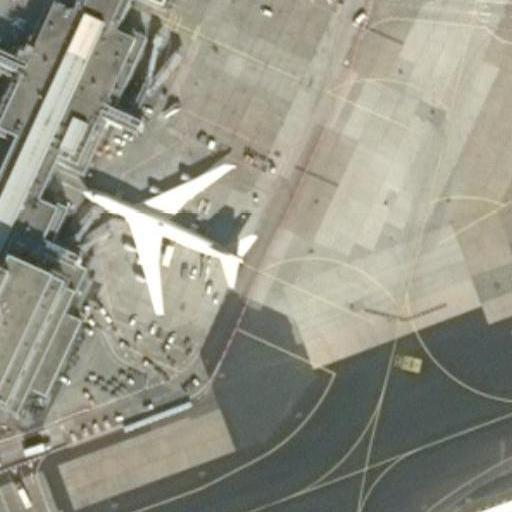Aircraft: (71, 158, 264, 316), (76, 156, 256, 315)
